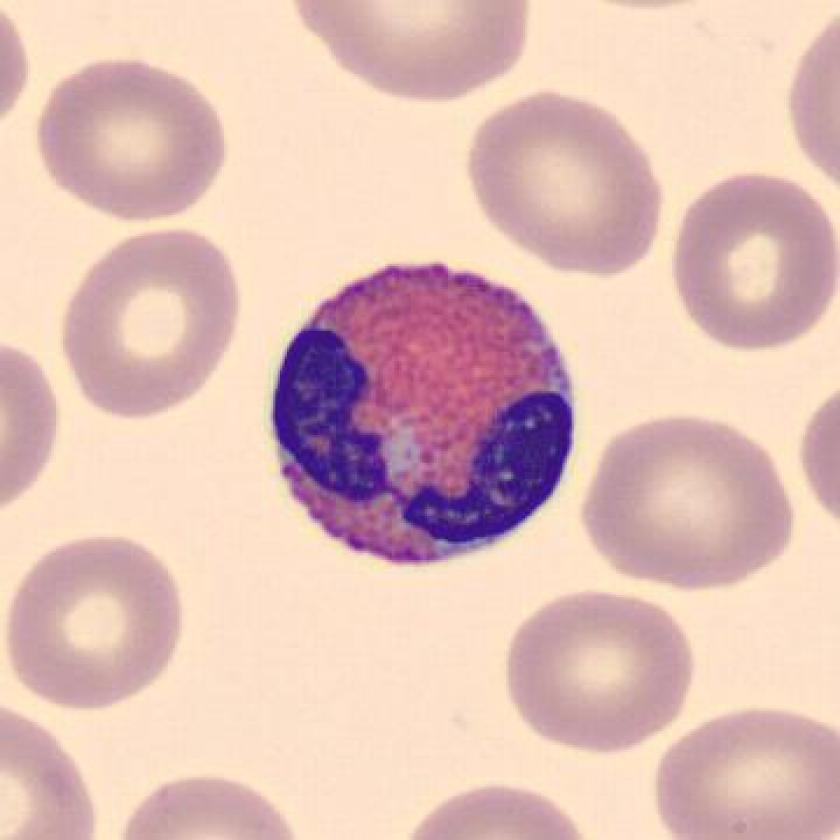eosinophil: (265, 242, 589, 582)
